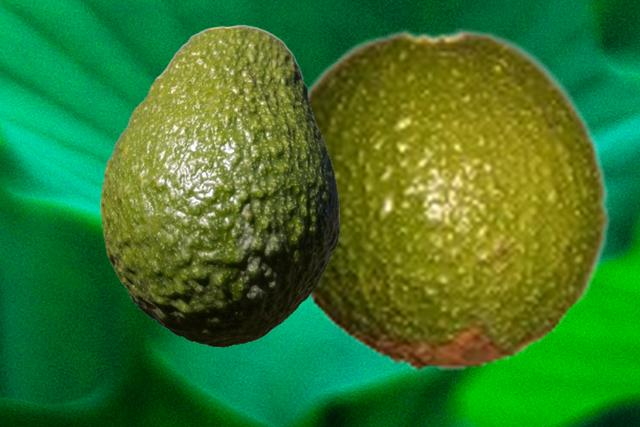avocado: (306, 28, 612, 371), (100, 24, 338, 346)
